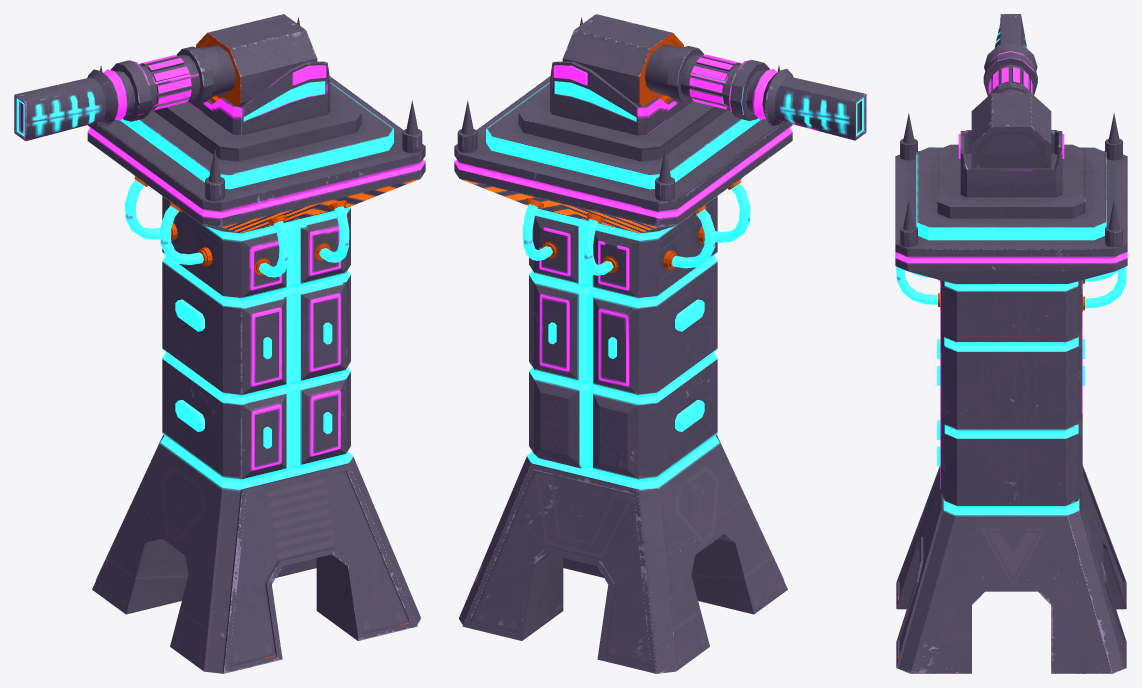
The model's file is gun_tower_laser_final_2.fbx.
3 views of the same model, side by side, from view 1: azimuth 30°, elevation 25°; view 2: azimuth 150°, elevation 25°; view 3: azimuth 270°, elevation 25° (orthographic). The views are drawn at different scales.
Visible parts, largest first — view 1: tower, barrel_R.002, gun, gun_base, barrel_R.001; view 2: tower, barrel_R.002, gun, gun_base, barrel_R.001; view 3: tower, gun, gun_base, barrel_R.002, barrel_R.001.
Part boxes in pixels (bbox=[...]): tower: bbox=[87, 17, 425, 673]; barrel_R.002: bbox=[14, 54, 200, 141]; gun: bbox=[196, 14, 317, 106]; gun_base: bbox=[187, 61, 330, 135]; barrel_R.001: bbox=[176, 44, 235, 104]; tower: bbox=[454, 17, 792, 673]; barrel_R.002: bbox=[680, 54, 866, 140]; gun: bbox=[562, 14, 683, 106]; gun_base: bbox=[550, 61, 692, 135]; barrel_R.001: bbox=[645, 44, 704, 103]; tower: bbox=[895, 113, 1127, 673]; gun: bbox=[971, 93, 1051, 168]; gun_base: bbox=[958, 130, 1064, 197]; barrel_R.002: bbox=[983, 14, 1037, 95]; barrel_R.001: bbox=[987, 82, 1033, 96].
Size of the model in its own units: 1608 by 2523 by 1029.
1 material, 1 textured.
